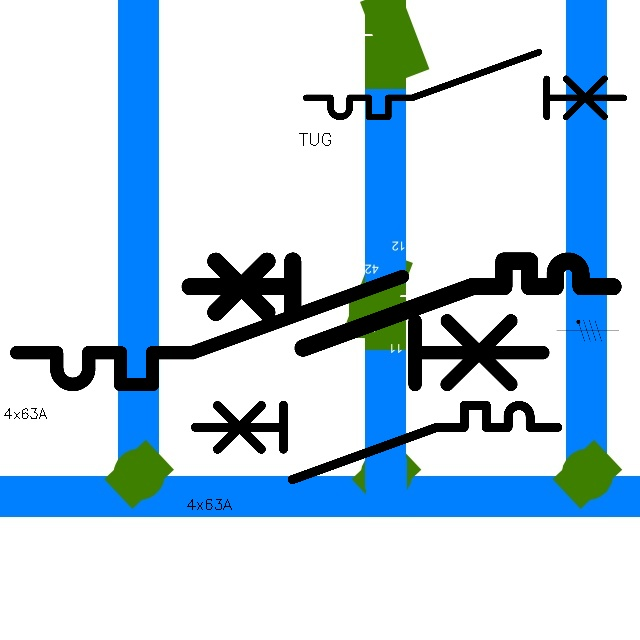interruptor_termomagnetico: (3, 263, 556, 398), (179, 250, 624, 359), (186, 396, 567, 489), (298, 44, 631, 125)
